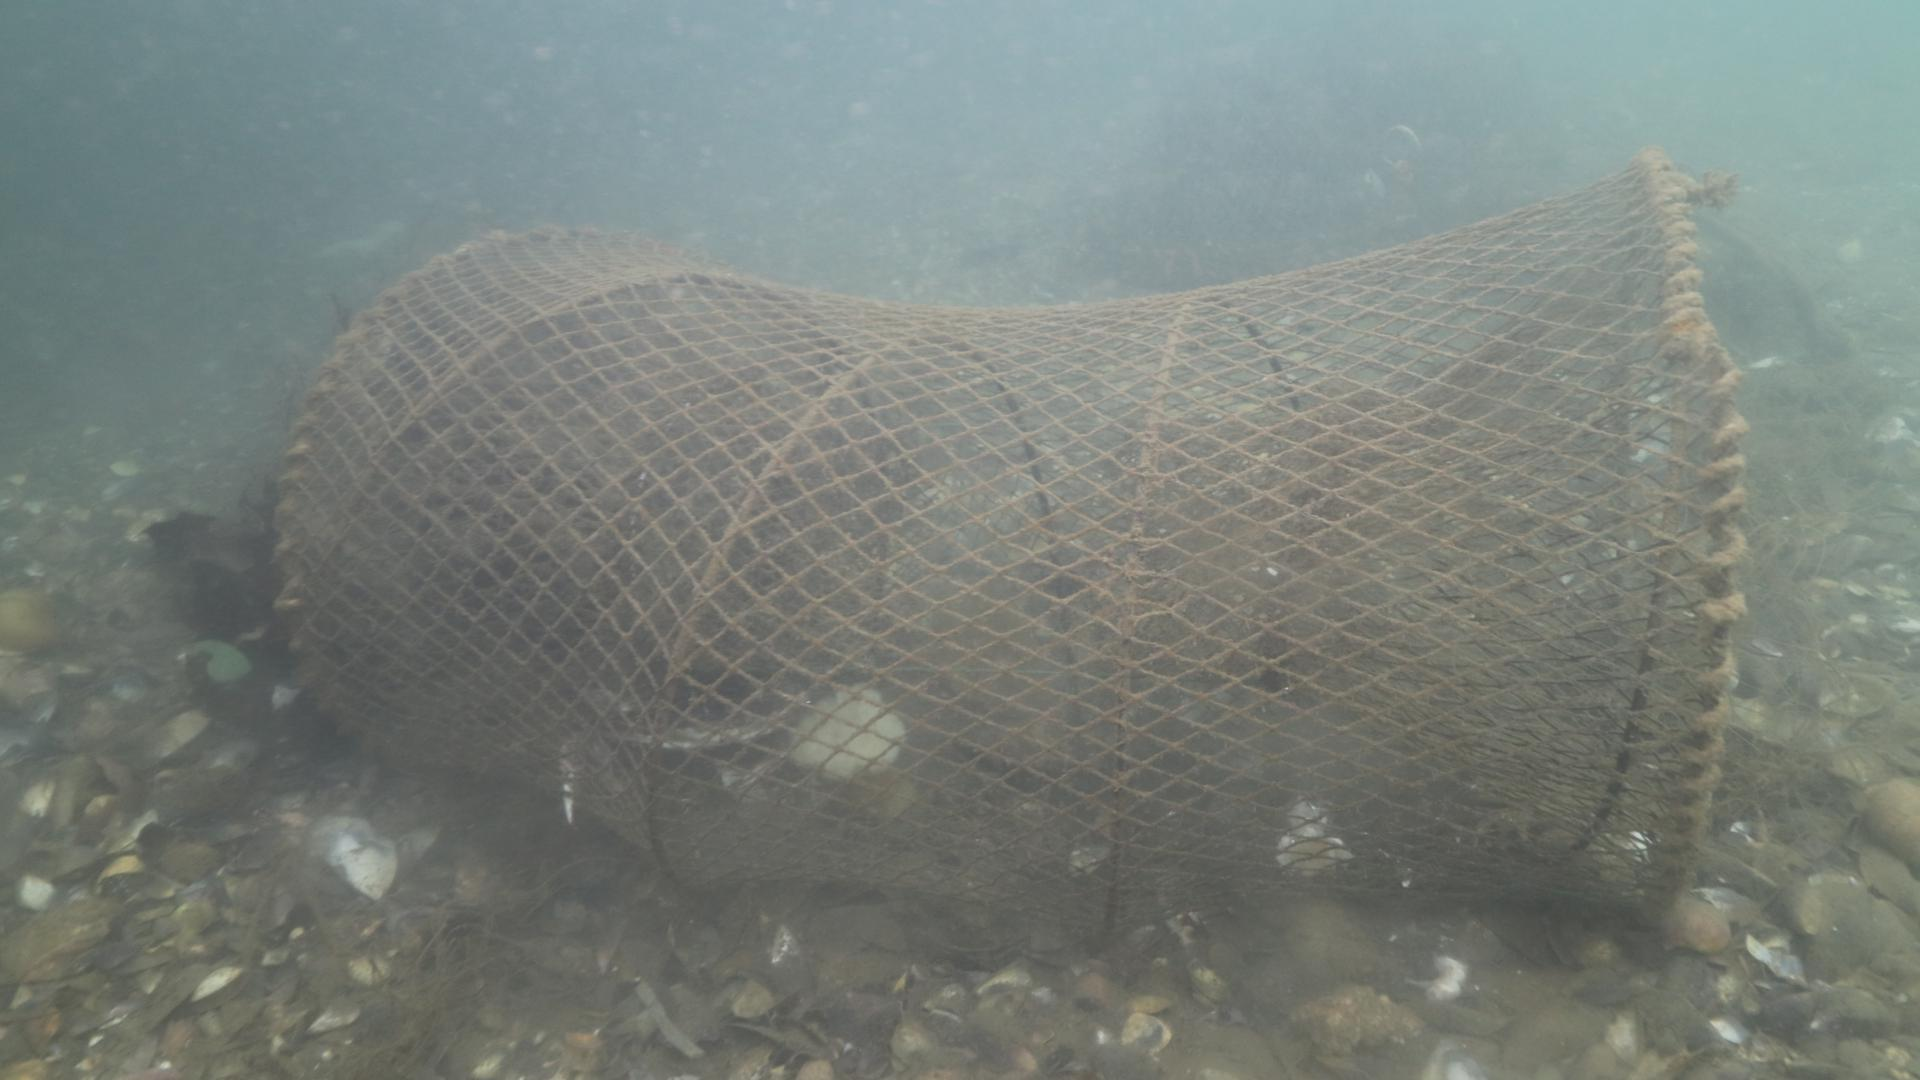spring fish trap: (272, 142, 1747, 953)
